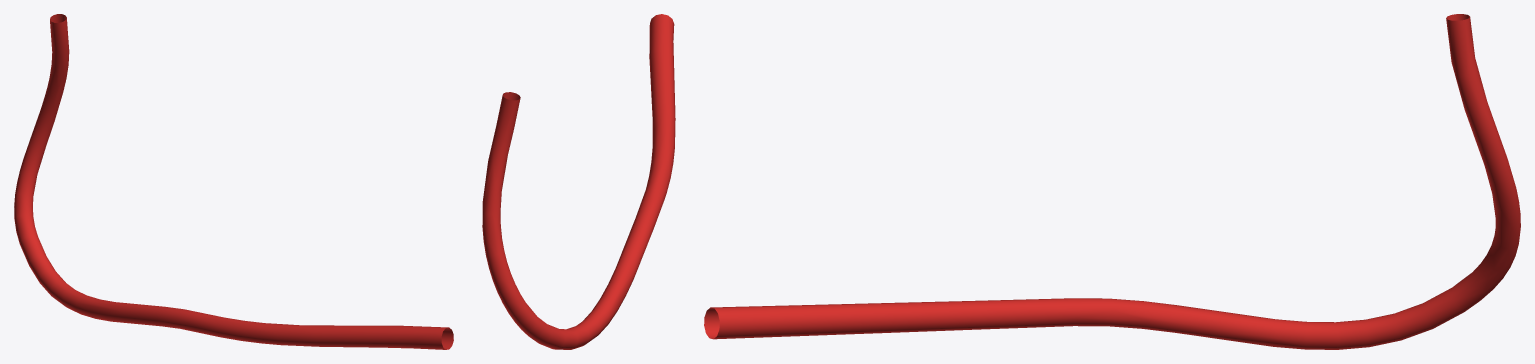
File: circulatorio-circumflex-scapular-artery-r.glb
The picture shows the model from 3 angles, left to right: view 1: azimuth 30°, elevation 25°; view 2: azimuth 150°, elevation 25°; view 3: azimuth 270°, elevation 25°; orthographic projection. The views are drawn at different scales.
Parts seen in each view (by area): view 1: Circumflex scapular artery.r; view 2: Circumflex scapular artery.r; view 3: Circumflex scapular artery.r.
Part boxes in pixels (x1,y1,x2,y2): Circumflex scapular artery.r: (14,14,453,349); Circumflex scapular artery.r: (482,14,675,349); Circumflex scapular artery.r: (704,14,1520,349).
Size of the model in its own units: 0.014 by 0.0194 by 0.0406.
